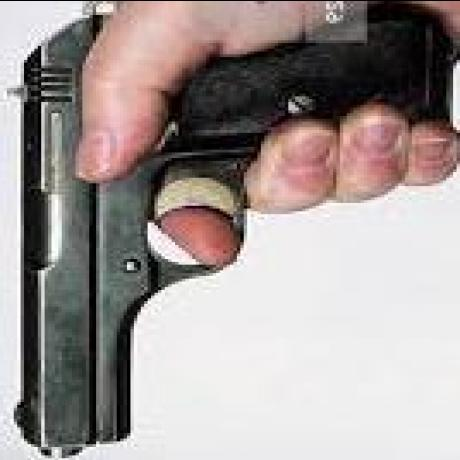weapon: (17, 17, 361, 458)
